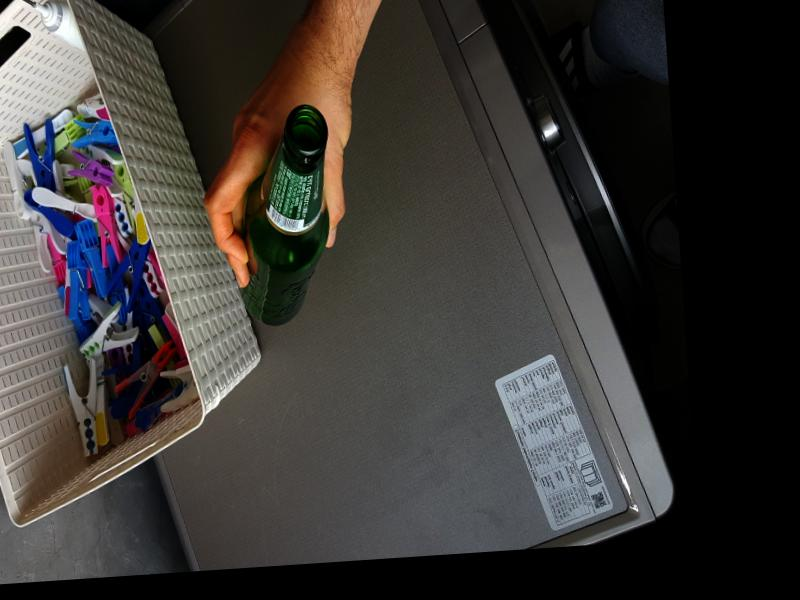Beer: (224, 104, 340, 326)
